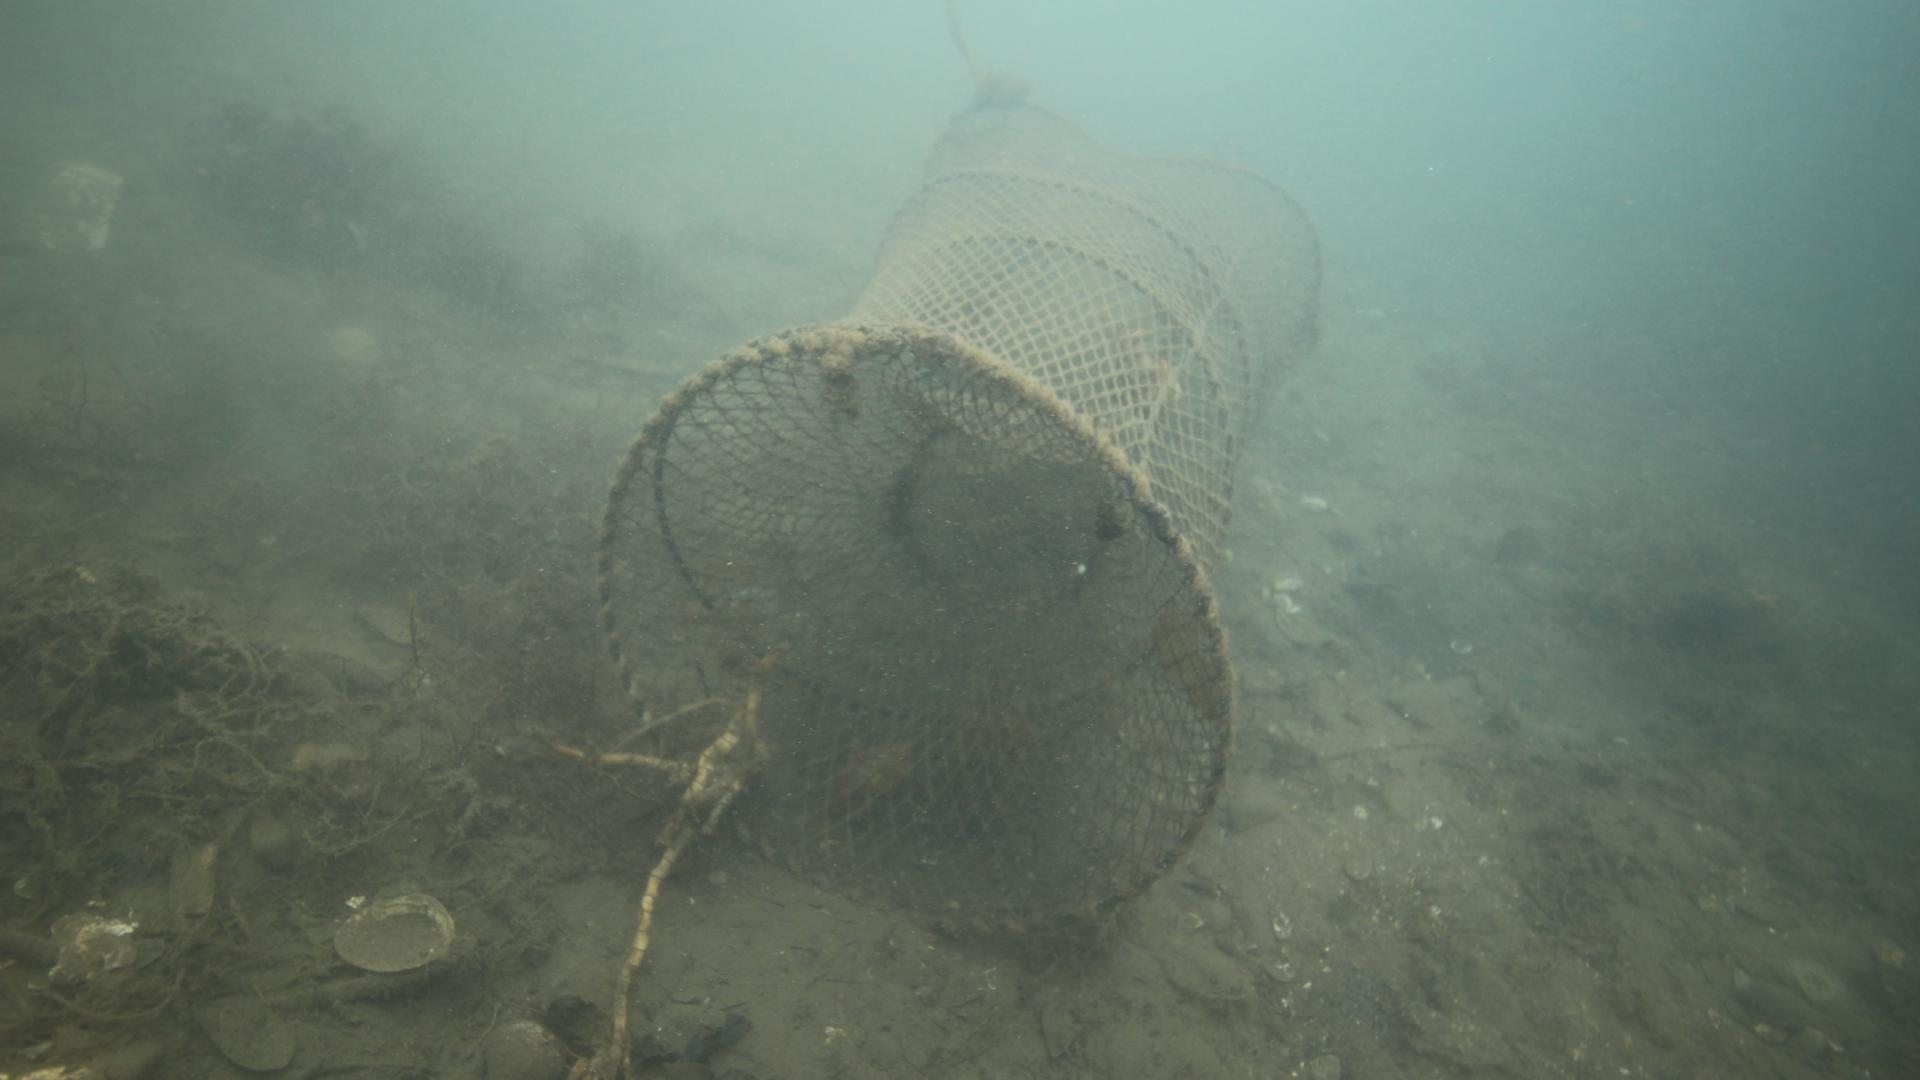spring fish trap: (589, 90, 1328, 945)
